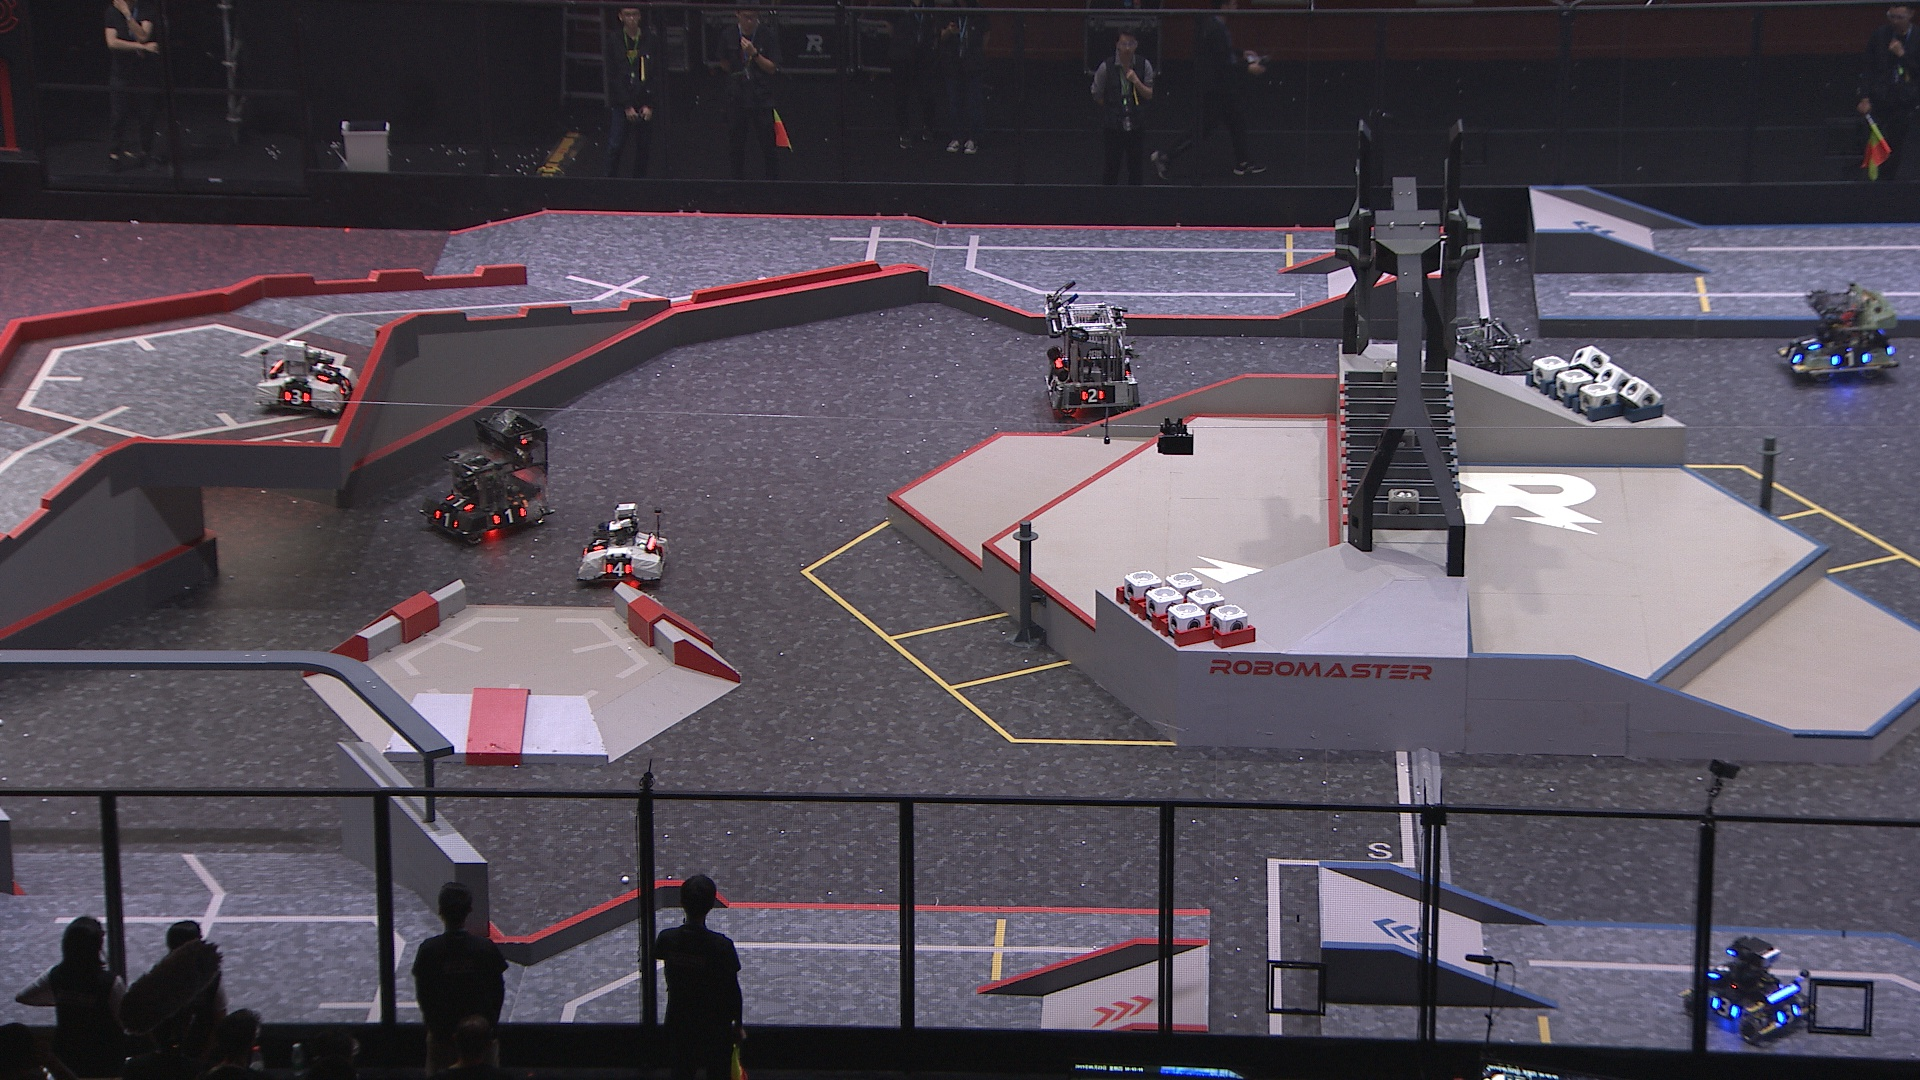armor: (1712, 994, 1746, 1026), (1828, 344, 1869, 371), (487, 504, 527, 527), (429, 506, 460, 535), (442, 489, 479, 513), (1774, 1000, 1804, 1027), (603, 556, 636, 579), (313, 357, 340, 384), (282, 384, 310, 409), (1077, 384, 1106, 407), (1793, 330, 1822, 353), (1708, 955, 1731, 982), (334, 376, 353, 400), (1783, 344, 1803, 367), (588, 533, 608, 551)
car: (422, 409, 553, 547), (1683, 935, 1818, 1044), (1774, 276, 1905, 386), (1038, 297, 1145, 419), (1439, 314, 1534, 413), (575, 500, 674, 589), (255, 334, 359, 417)
